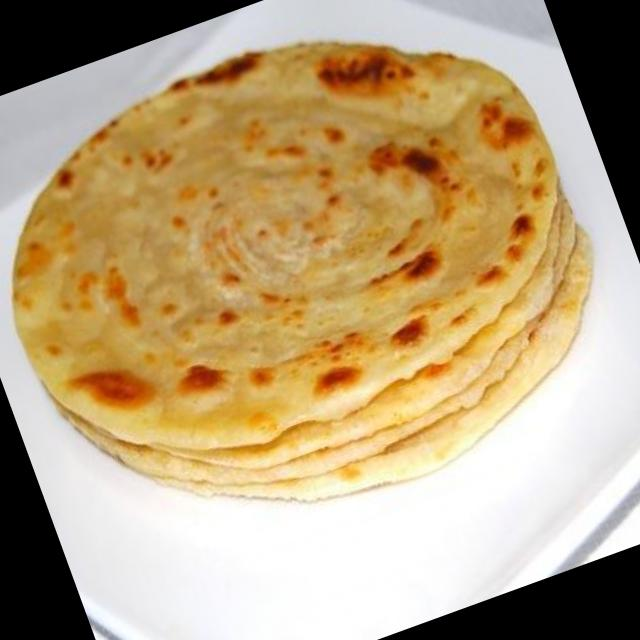roti: (0, 28, 591, 511)
